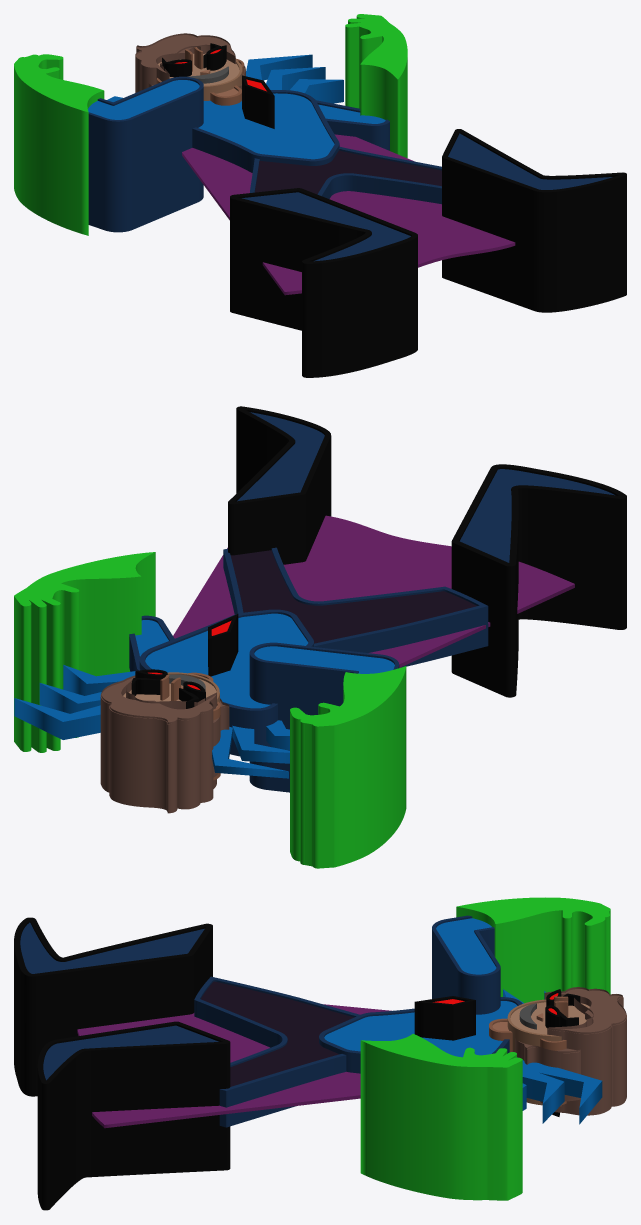
File: emoji_u1f9b9_1f3fd.glb
3 views of the same model, one above another, from view 1: azimuth 30°, elevation 25°; view 2: azimuth 150°, elevation 25°; view 3: azimuth 270°, elevation 25° (orthographic). The views are drawn at different scales.
Visible parts, largest first — view 1: emoji_u1f9b9_1f3fd; view 2: emoji_u1f9b9_1f3fd; view 3: emoji_u1f9b9_1f3fd.
Boxes of the visible parts, x1,y1,x2,y2 form: emoji_u1f9b9_1f3fd: [14, 14, 626, 377]; emoji_u1f9b9_1f3fd: [14, 406, 626, 868]; emoji_u1f9b9_1f3fd: [14, 897, 626, 1210].
Bounding box in the file's own units: 0.0238 × 0.008 × 0.0334.
